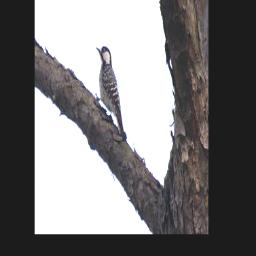Woodpecker: (92, 39, 130, 146)
